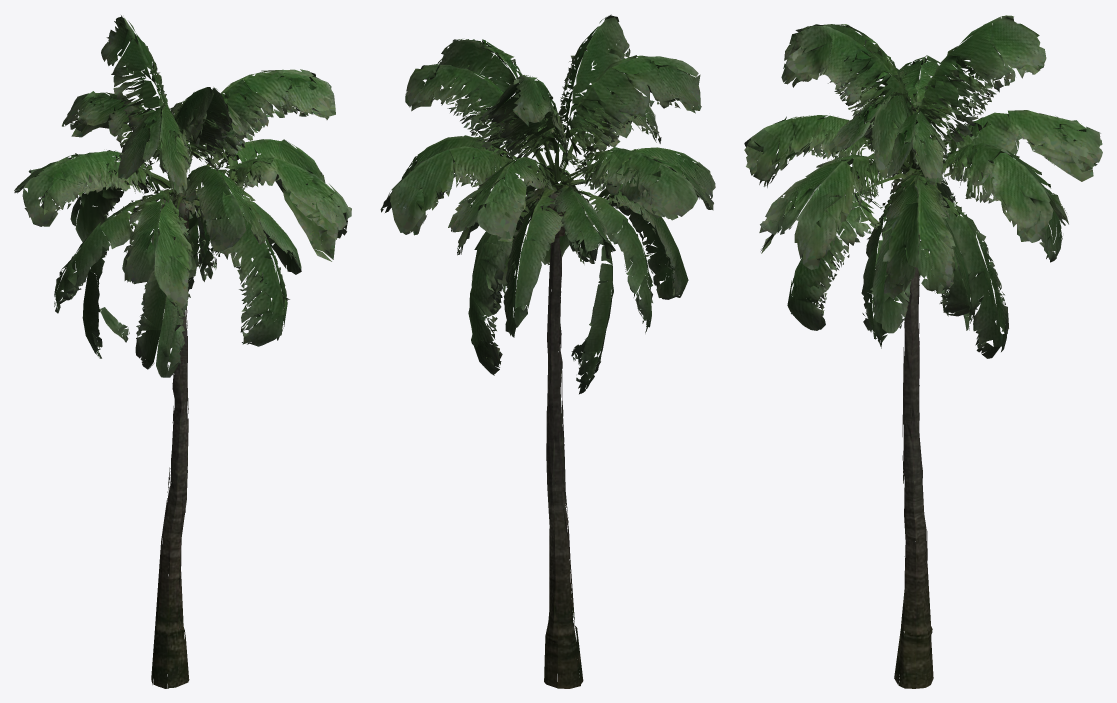
File: PalmTree1.glb
3 renders of one model, left to right at view 1: azimuth 30°, elevation 25°; view 2: azimuth 150°, elevation 25°; view 3: azimuth 270°, elevation 25°, orthographic. The views are drawn at different scales.
Parts seen in each view (by area): view 1: Palm-Tree-1_00, Palm-Tree-1_10, Palm-Tree-1_01, Palm-Tree-1_11; view 2: Palm-Tree-1_01, Palm-Tree-1_00, Palm-Tree-1_11, Palm-Tree-1_10; view 3: Palm-Tree-1_10, Palm-Tree-1_11, Palm-Tree-1_00, Palm-Tree-1_01.
Part boxes in pixels (x1=…): Palm-Tree-1_00: x1=22, y1=87, x2=256, y2=688; Palm-Tree-1_10: x1=173, y1=69, x2=351, y2=683; Palm-Tree-1_01: x1=14, y1=15, x2=169, y2=679; Palm-Tree-1_11: x1=100, y1=26, x2=312, y2=308; Palm-Tree-1_01: x1=467, y1=75, x2=703, y2=688; Palm-Tree-1_00: x1=551, y1=14, x2=715, y2=687; Palm-Tree-1_11: x1=380, y1=71, x2=551, y2=684; Palm-Tree-1_10: x1=401, y1=31, x2=631, y2=673; Palm-Tree-1_10: x1=746, y1=38, x2=923, y2=688; Palm-Tree-1_11: x1=923, y1=39, x2=1102, y2=687; Palm-Tree-1_00: x1=744, y1=24, x2=923, y2=683; Palm-Tree-1_01: x1=923, y1=15, x2=1102, y2=683.
Bounding box in the file's own units: 9.56 × 19.04 × 9.29.
1 material, 1 textured.
